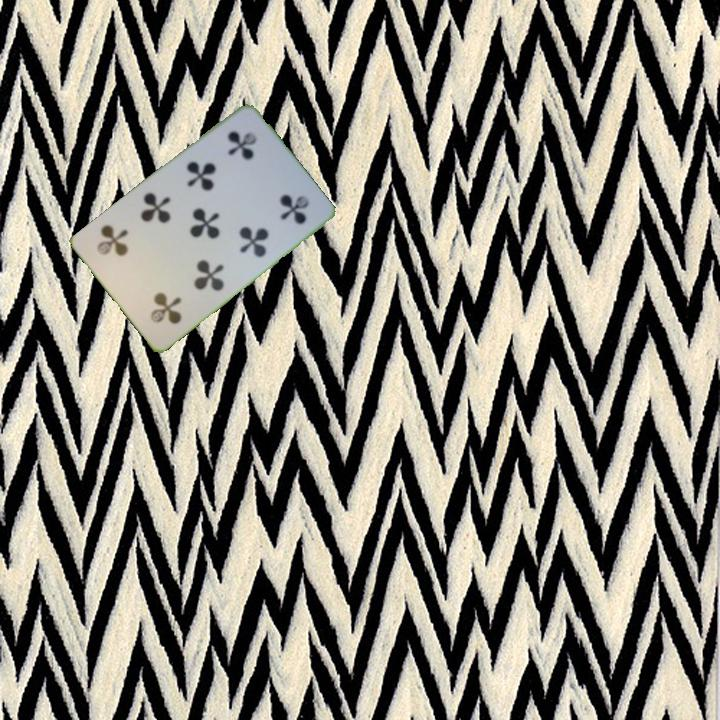c_9.png: (202, 112, 287, 198), (119, 255, 204, 341)
